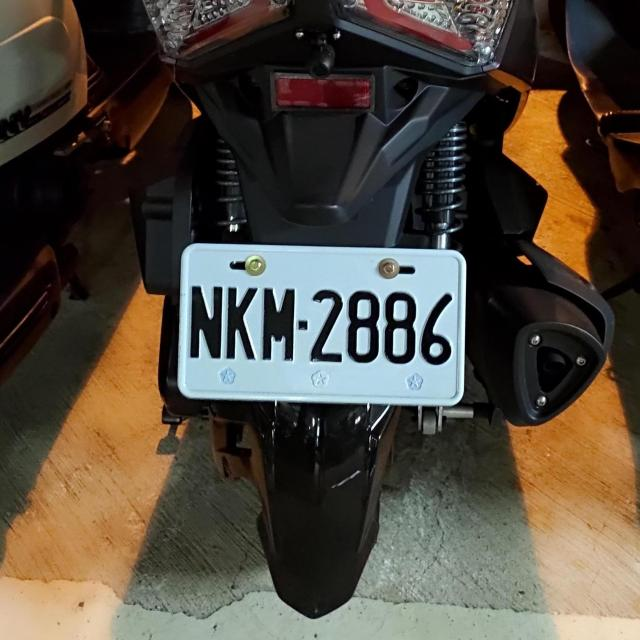W: (176, 240, 468, 407)
